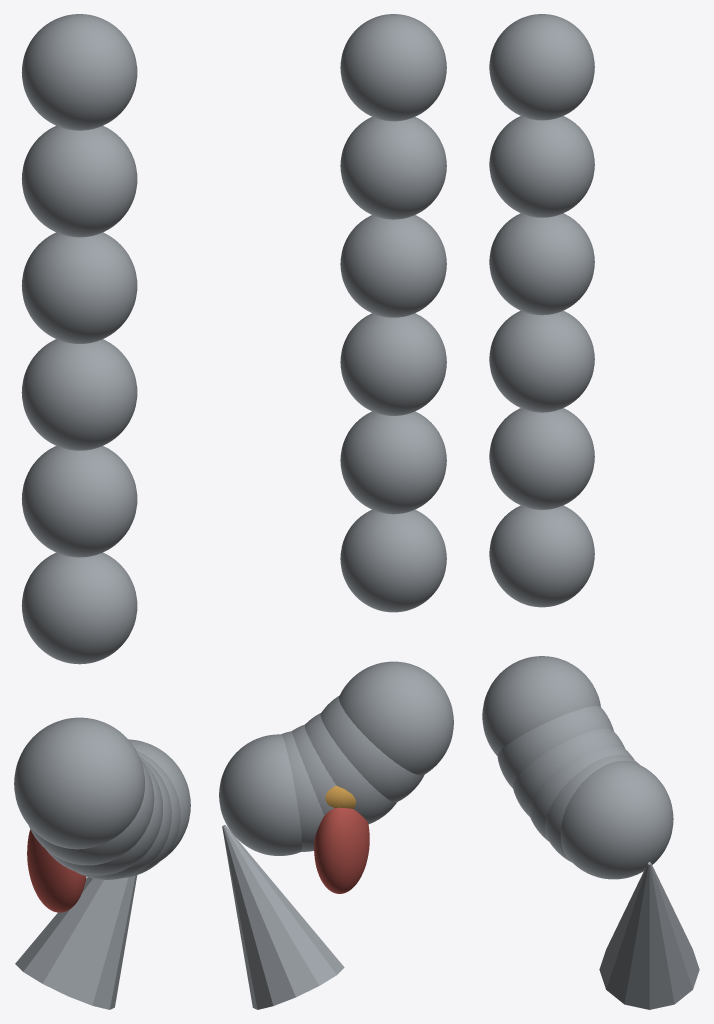
Rendered from pudge_hook.glb.
3 views of the same model, side by side, from view 1: azimuth 30°, elevation 25°; view 2: azimuth 150°, elevation 25°; view 3: azimuth 270°, elevation 25° (orthographic). The views are drawn at different scales.
Parts seen in each view (by area): view 1: pudge_hook; view 2: pudge_hook; view 3: pudge_hook.
Boxes of the visible parts, x1,y1,x2,y2 form: pudge_hook: (14, 14, 190, 1009); pudge_hook: (219, 14, 453, 1009); pudge_hook: (482, 14, 699, 1009).
Size of the model in its own units: 0.1168 by 0.5872 by 0.1214.
